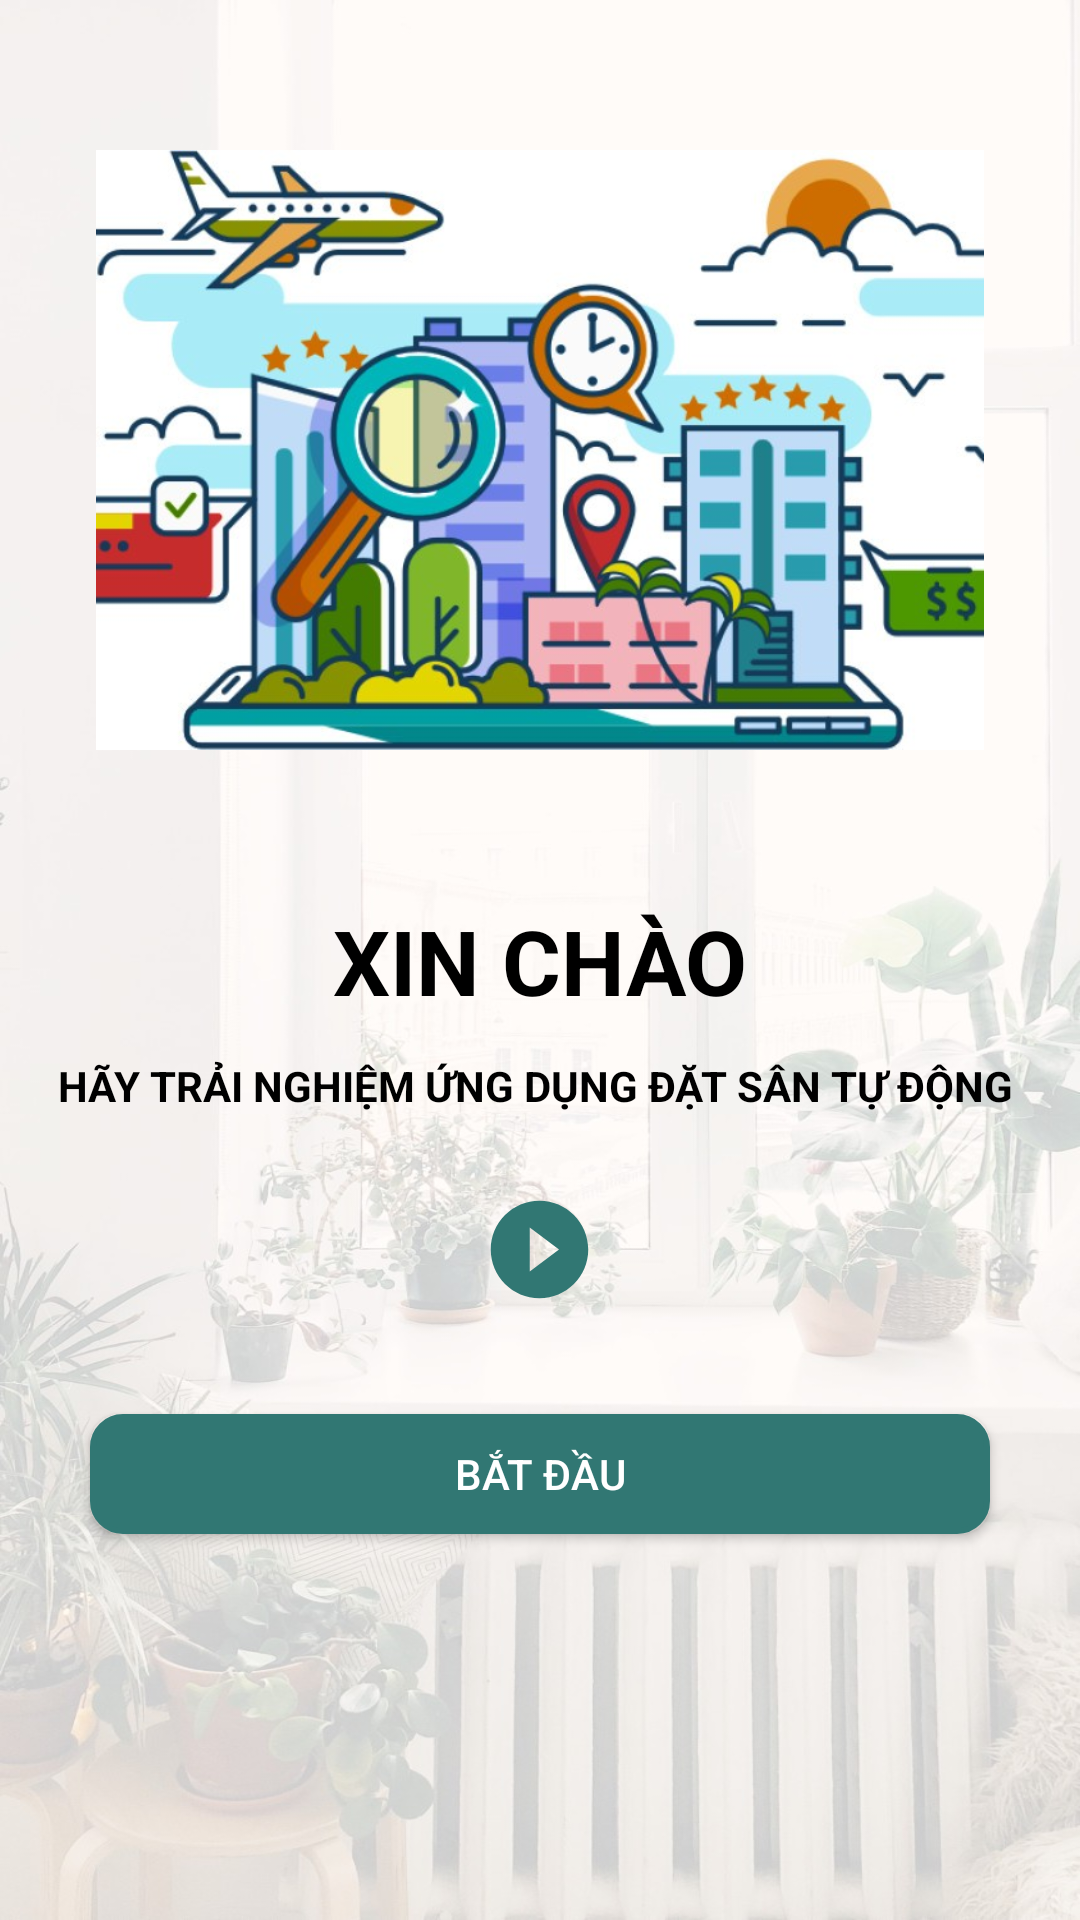

Point at icon controls on the screen. Image size 1080px×1920px, points as [x,y].
play: [539,1247]
